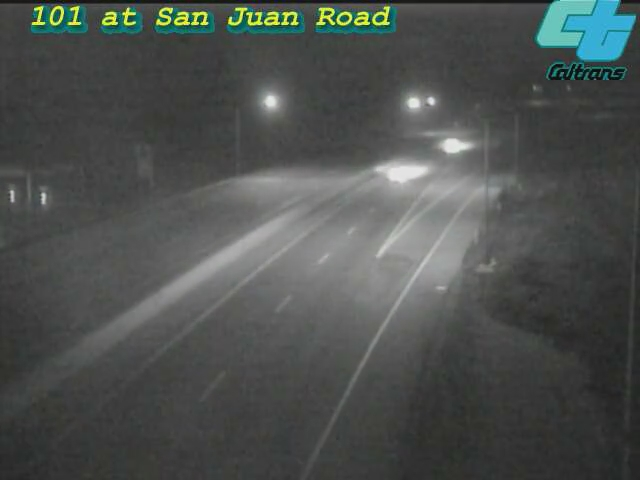vehicle: (359, 134, 439, 214), (426, 121, 476, 171)
